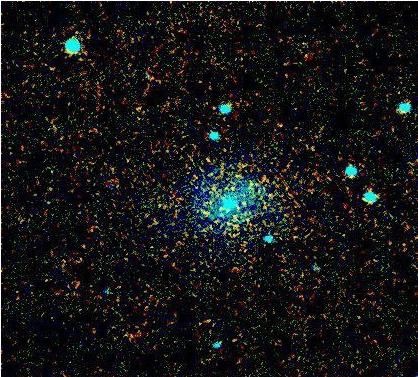star: (207, 204, 237, 234)
